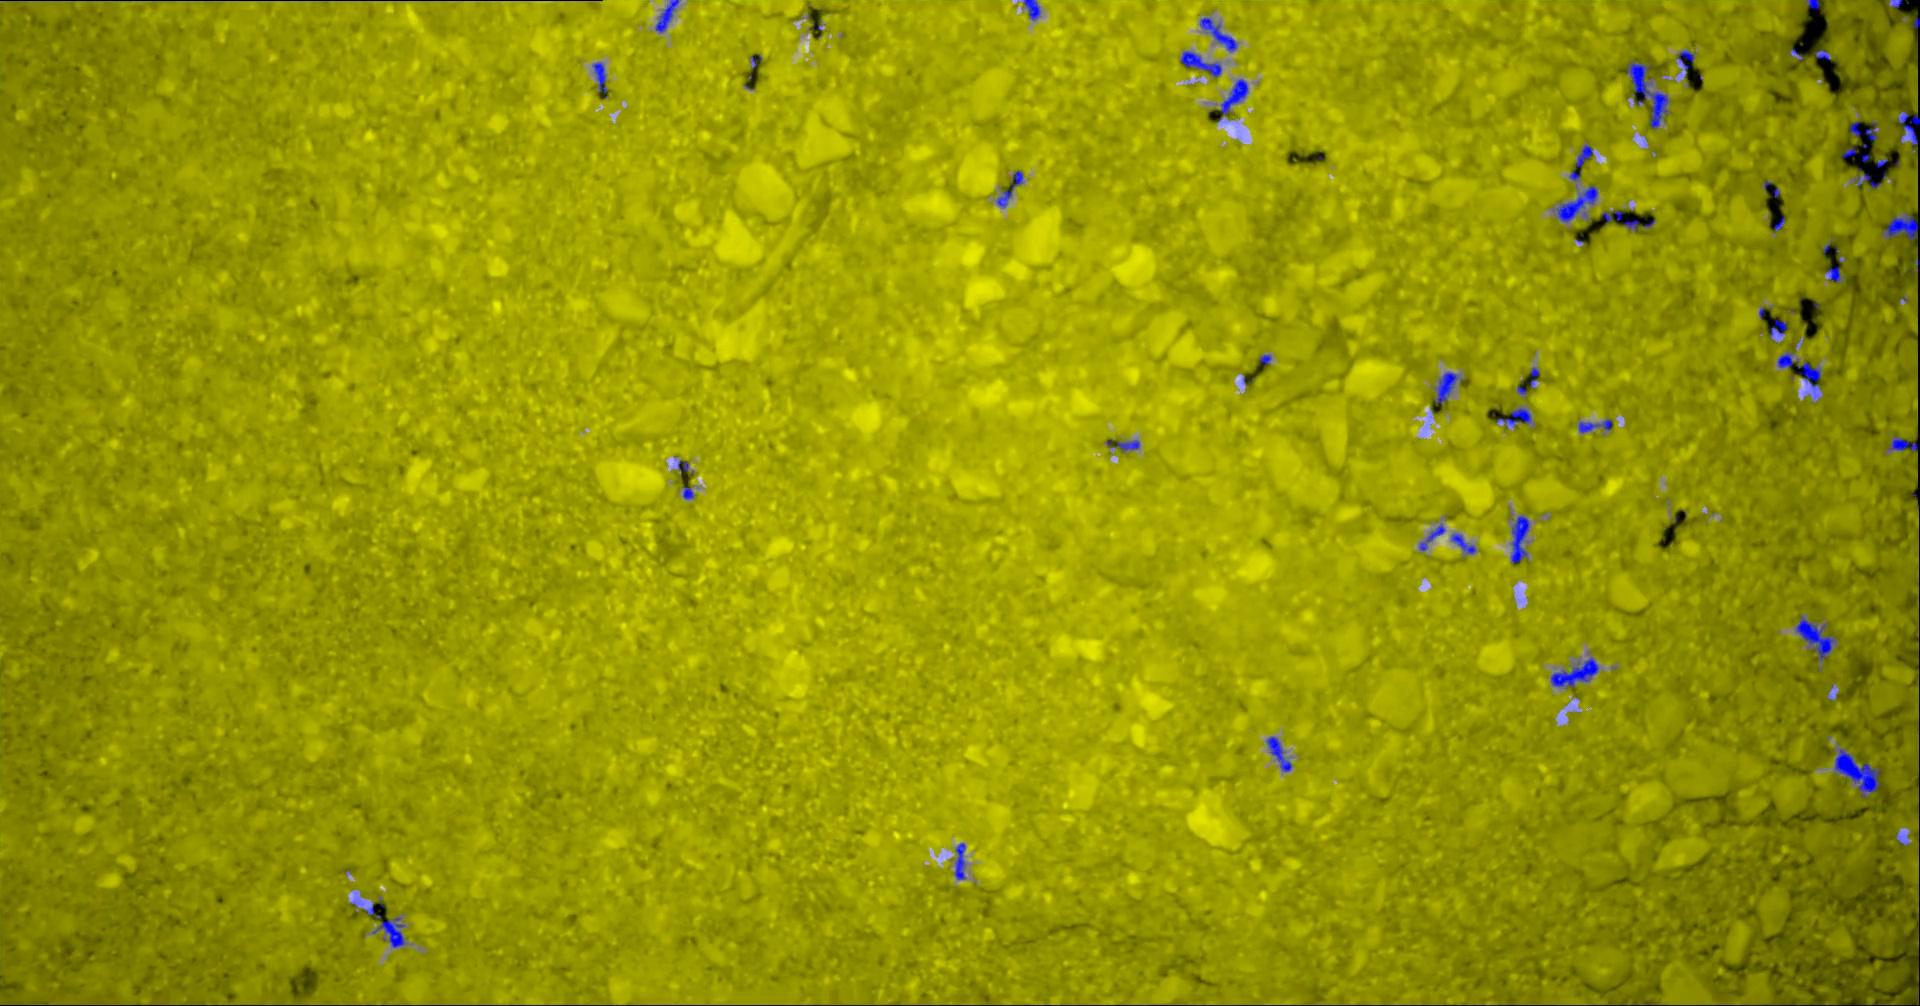ant: (1628, 61, 1670, 128), (1836, 748, 1881, 798), (1797, 615, 1836, 661), (1779, 351, 1823, 389), (1558, 184, 1599, 222), (1552, 657, 1600, 687), (1218, 77, 1250, 122), (1201, 17, 1239, 51), (1603, 210, 1656, 231), (1182, 51, 1223, 76), (373, 917, 406, 948), (1435, 371, 1464, 404), (998, 170, 1023, 207), (1512, 514, 1531, 563), (1898, 111, 1920, 152), (1884, 213, 1920, 239), (1267, 735, 1293, 771), (1571, 144, 1594, 180), (657, 0, 681, 32), (1498, 406, 1533, 427), (1420, 525, 1446, 550), (1851, 119, 1879, 140), (594, 62, 610, 98), (1857, 166, 1882, 187), (1451, 533, 1477, 553), (1580, 418, 1614, 432), (1679, 50, 1697, 76), (1890, 434, 1920, 450), (956, 842, 968, 879), (1025, 0, 1043, 19), (1109, 439, 1142, 450), (1771, 319, 1789, 337), (1827, 265, 1843, 281), (1531, 366, 1542, 387), (679, 460, 695, 473), (1843, 146, 1858, 158), (1816, 50, 1832, 60), (684, 486, 696, 499), (1808, 0, 1821, 9)
